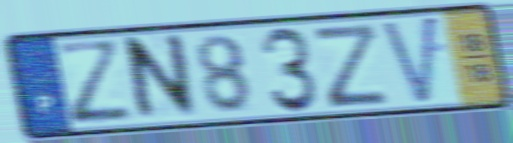3: (258, 24, 321, 116)
8: (192, 33, 254, 115)
N: (125, 31, 200, 127)
V: (377, 11, 441, 108)
Z: (51, 37, 138, 129), (309, 20, 393, 111)
